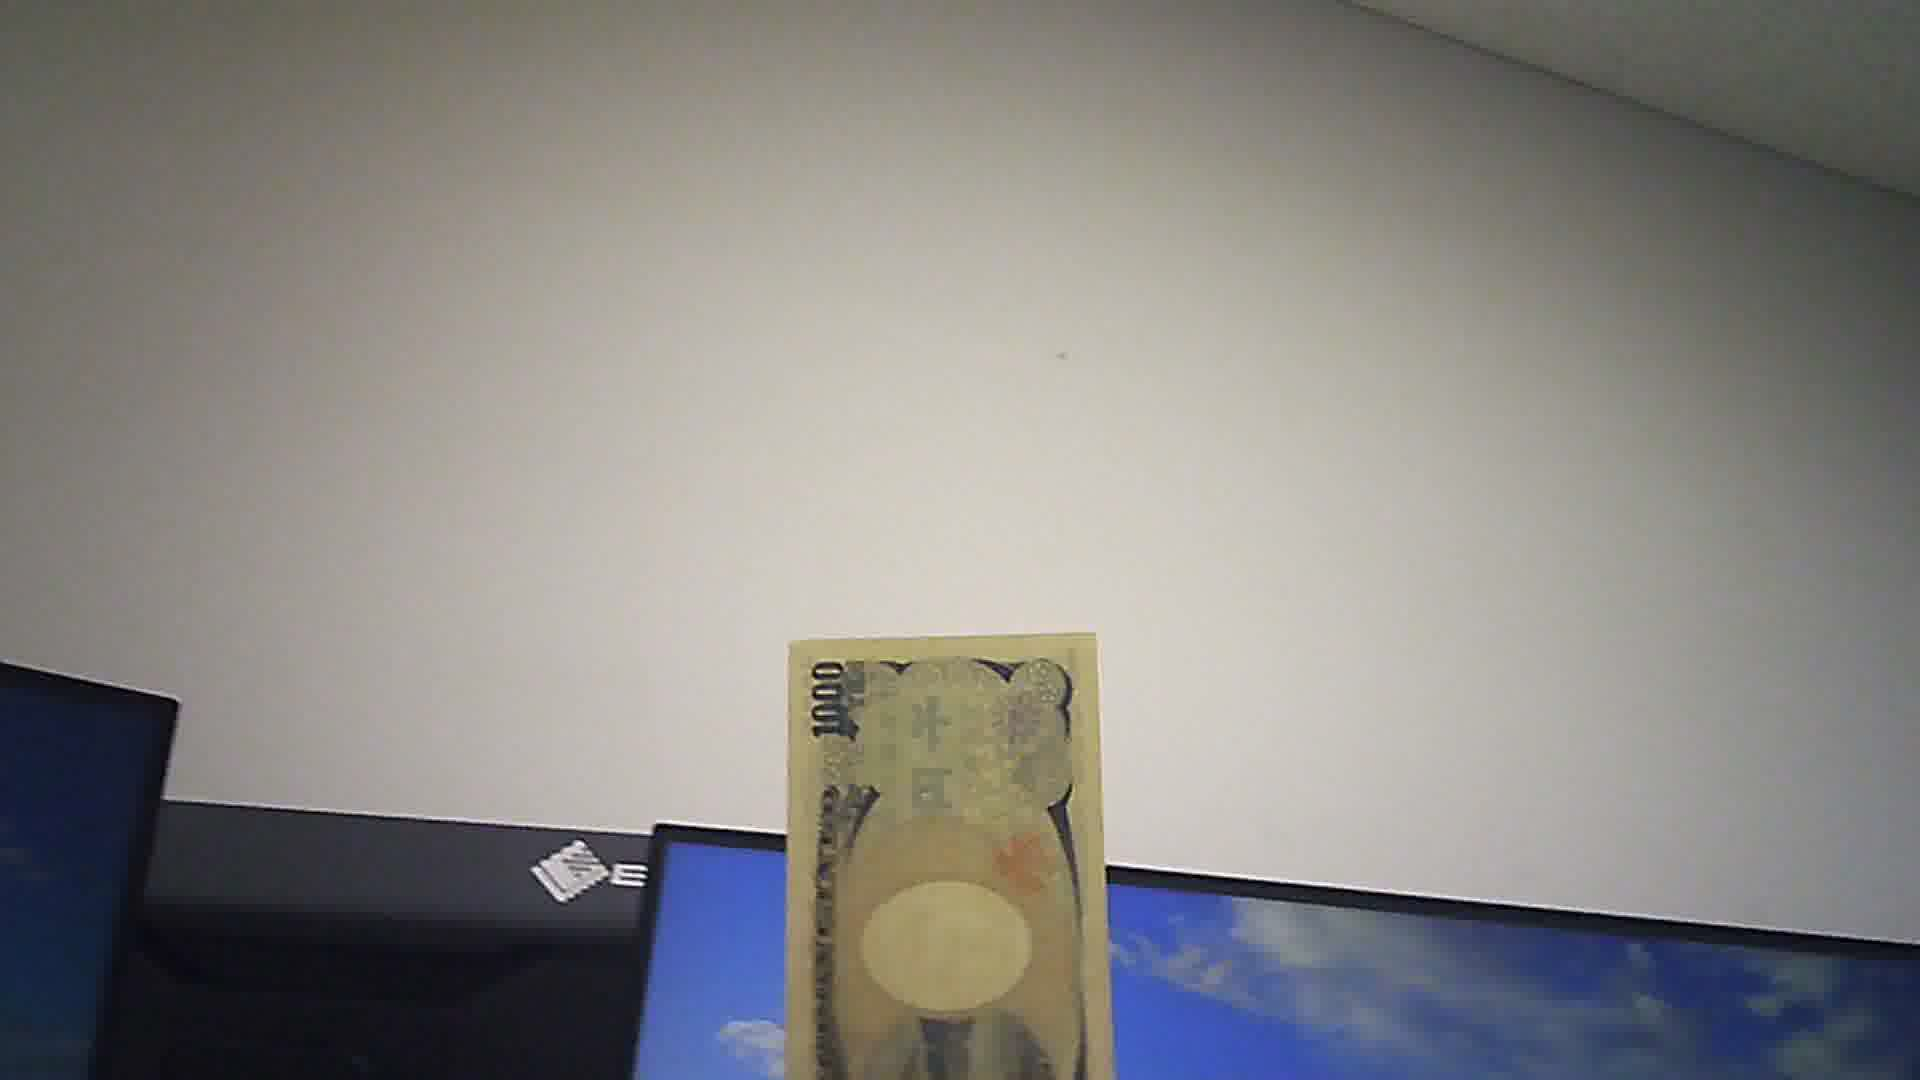1,000 Yen: (781, 625, 1114, 1079)
